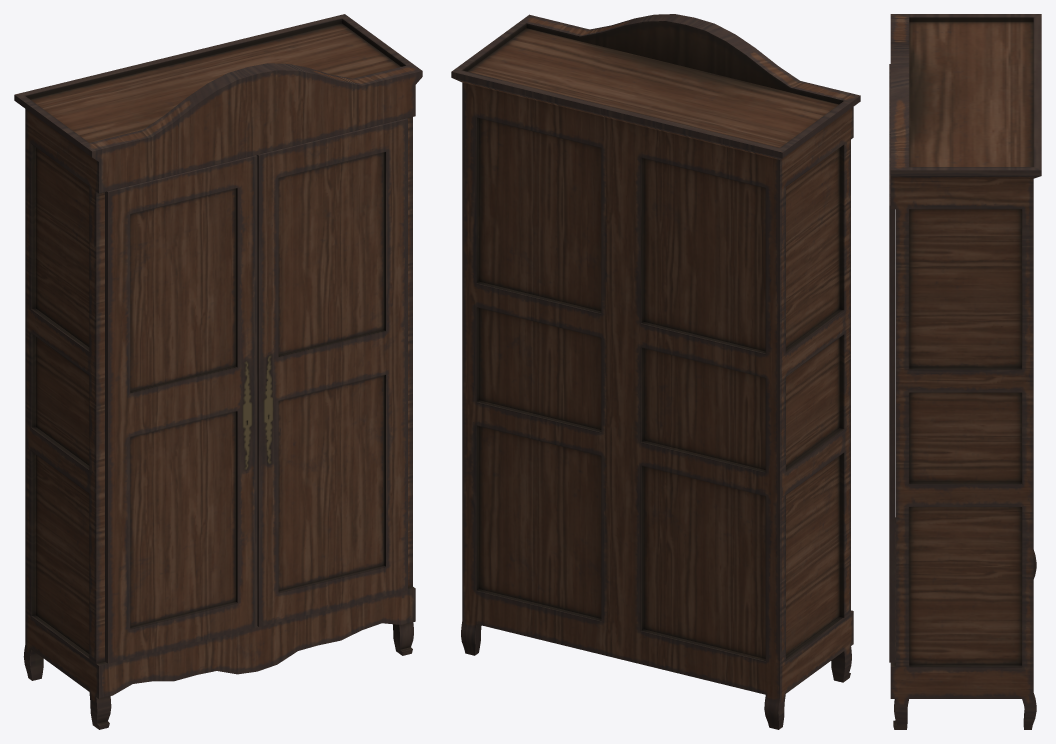
The model's file is Wardrobe_02.fbx.
3 renders of one model, left to right at view 1: azimuth 30°, elevation 25°; view 2: azimuth 150°, elevation 25°; view 3: azimuth 270°, elevation 25°, orthographic. The views are drawn at different scales.
Visible parts, largest first — view 1: Base, Door_2, Door_1; view 2: Base; view 3: Base, Door_1.
Part boxes in pixels (bbox=[...]): Base: bbox=[14, 14, 422, 729]; Door_2: bbox=[105, 155, 257, 663]; Door_1: bbox=[256, 118, 407, 626]; Base: bbox=[451, 14, 860, 729]; Base: bbox=[890, 14, 1041, 729]; Door_1: bbox=[889, 135, 895, 662].
Bounding box in the file's own units: 112 × 200 × 45.95.
